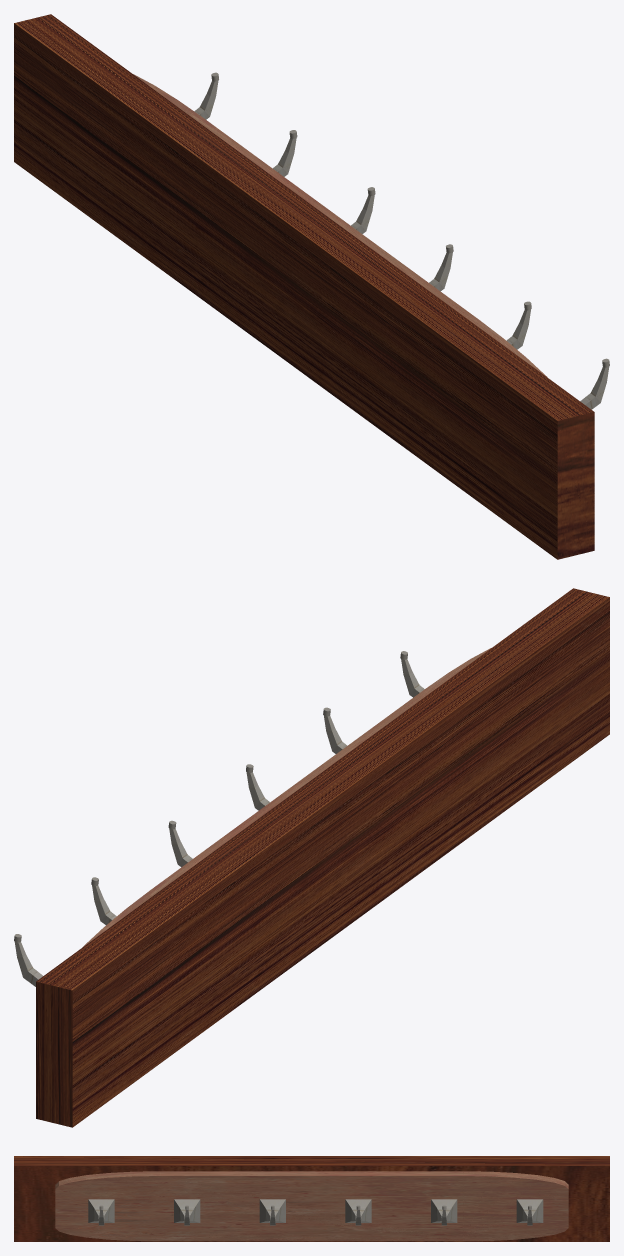
File: Gantungan.fbx
3 views of the same model, one above another, from view 1: azimuth 30°, elevation 25°; view 2: azimuth 150°, elevation 25°; view 3: azimuth 270°, elevation 25° (orthographic). The views are drawn at different scales.
Parts seen in each view (by area): view 1: Gantungan; view 2: Gantungan; view 3: Gantungan.
Part boxes in pixels (x1,y1,x2,y2): Gantungan: (14,14,609,559); Gantungan: (14,588,609,1127); Gantungan: (14,1156,609,1241).
Bounding box in the file's own units: 124 × 125 × 889.
